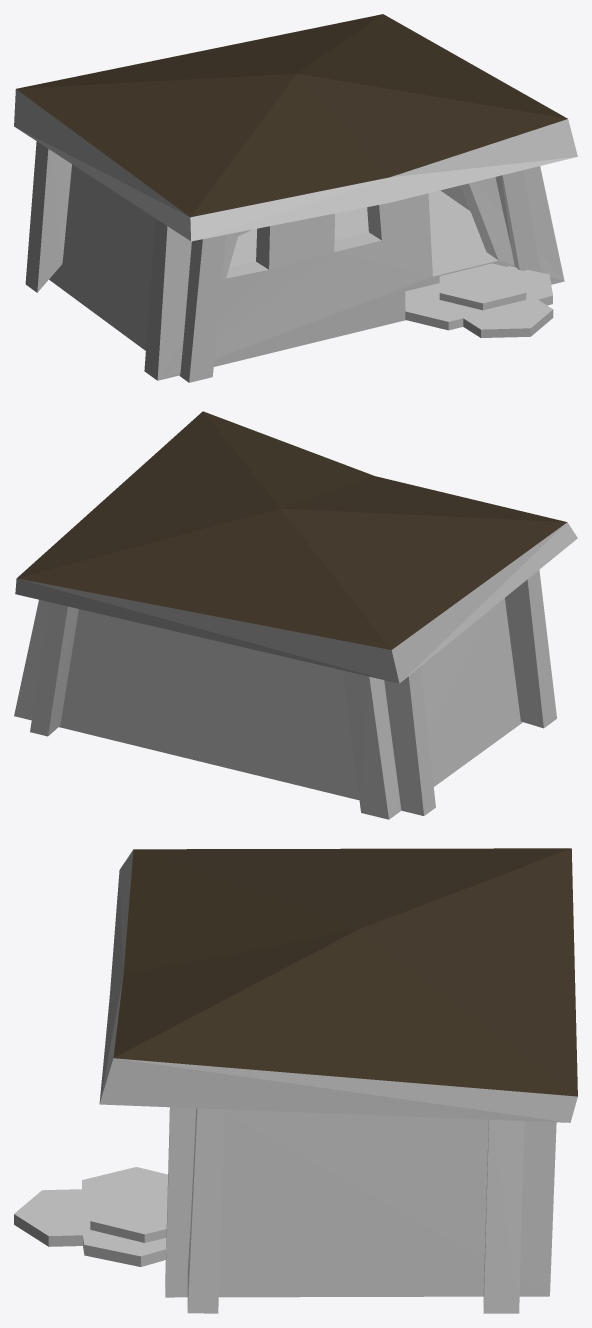
Rendered from OW_LONEHUT.OBJ.
The picture shows the model from 3 angles, top to bottom: view 1: azimuth 30°, elevation 25°; view 2: azimuth 150°, elevation 25°; view 3: azimuth 270°, elevation 25°; orthographic projection. The views are drawn at different scales.
Visible parts, largest first — view 1: OW_LONEHUT; view 2: OW_LONEHUT; view 3: OW_LONEHUT.
Part boxes in pixels (x1,y1,x2,y2): OW_LONEHUT: (14,14,577,382); OW_LONEHUT: (14,411,577,819); OW_LONEHUT: (14,848,577,1313).
Size of the model in its own units: 9.02 by 4.41 by 8.62.
